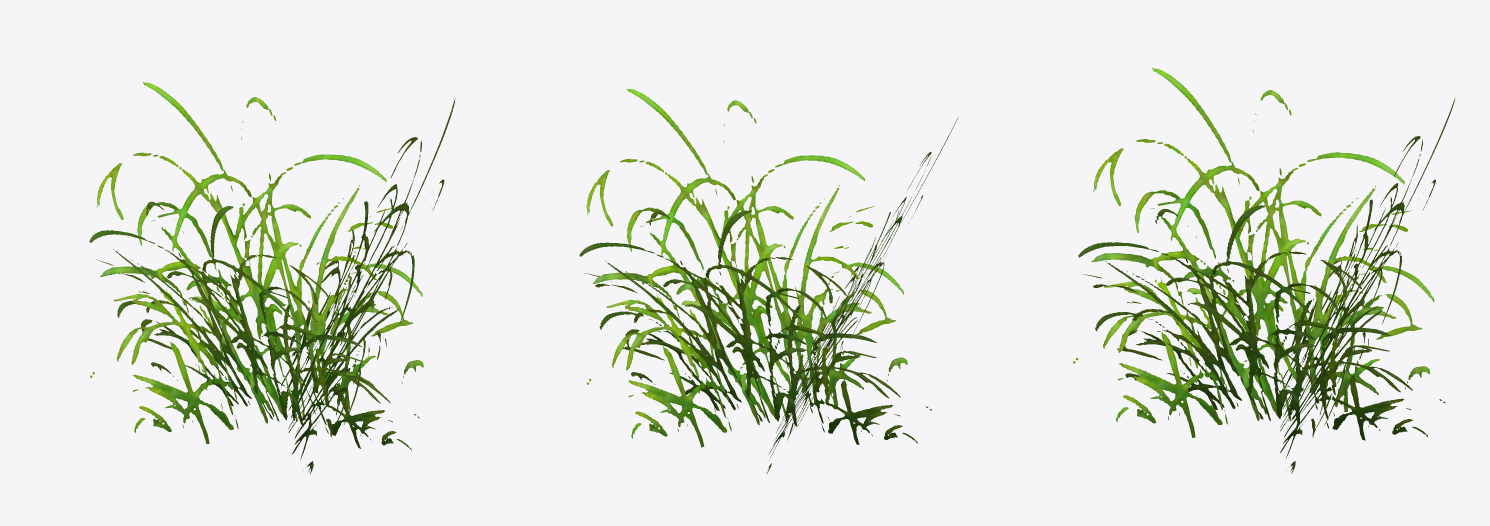
Rendered from yzc_cao02.FBX.
The picture shows the model from 3 angles, left to right: view 1: azimuth 30°, elevation 25°; view 2: azimuth 150°, elevation 25°; view 3: azimuth 270°, elevation 25°; orthographic projection.
Visible parts, largest first — view 1: yzc_cao02; view 2: yzc_cao02; view 3: yzc_cao02.
Boxes of the visible parts, x1,y1,x2,y2 form: yzc_cao02: (89,82,455,473); yzc_cao02: (579,88,958,474); yzc_cao02: (1073,67,1455,473).
Size of the model in its own units: 88.12 by 59.44 by 81.78.
